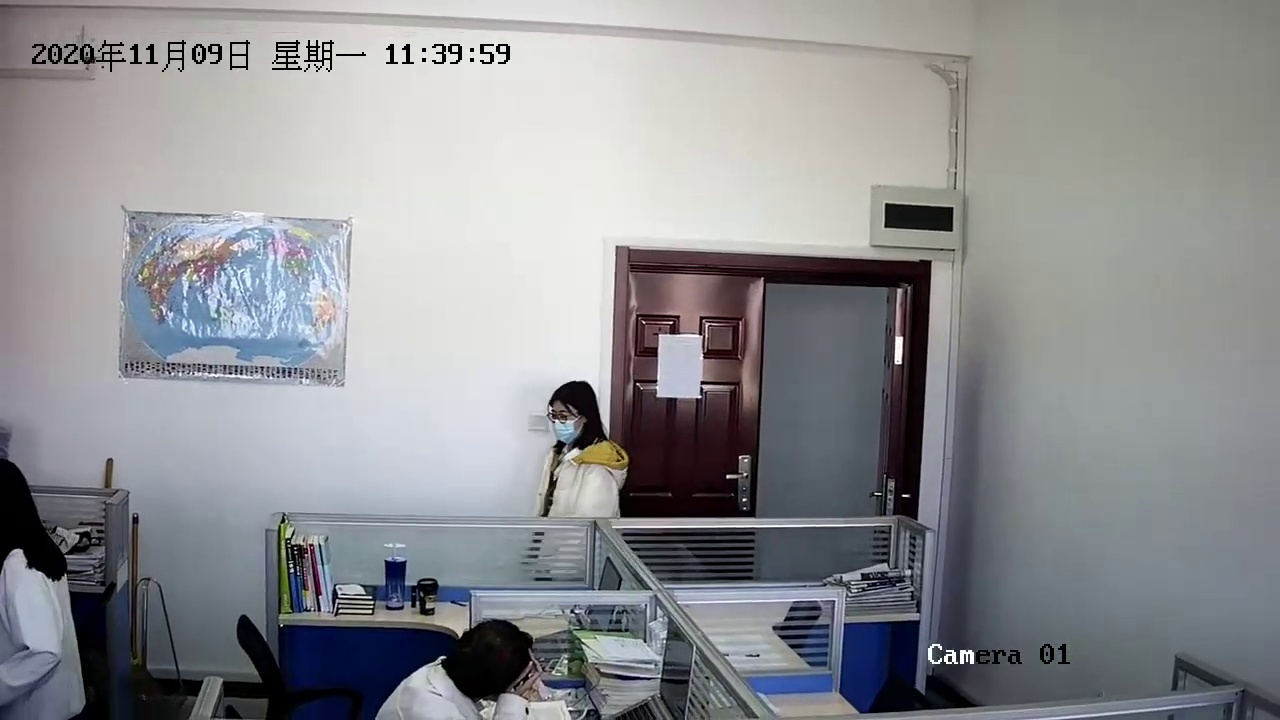mask: (546, 386, 600, 452)
